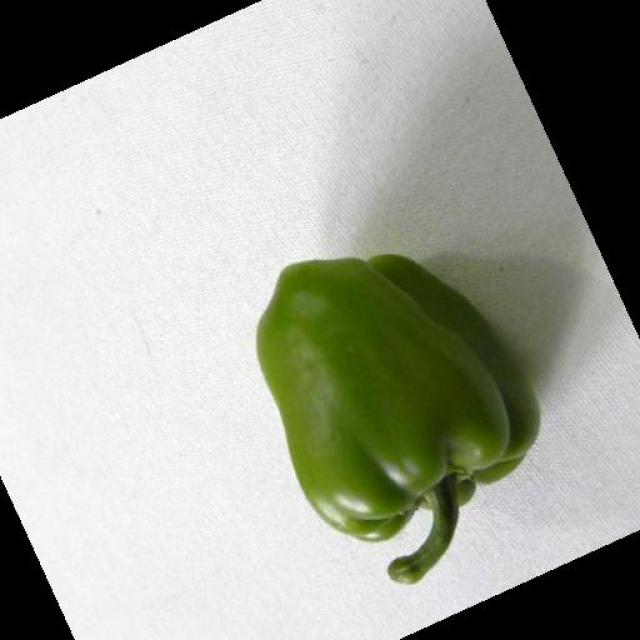Fresh_Capsicum: (225, 235, 557, 586)
